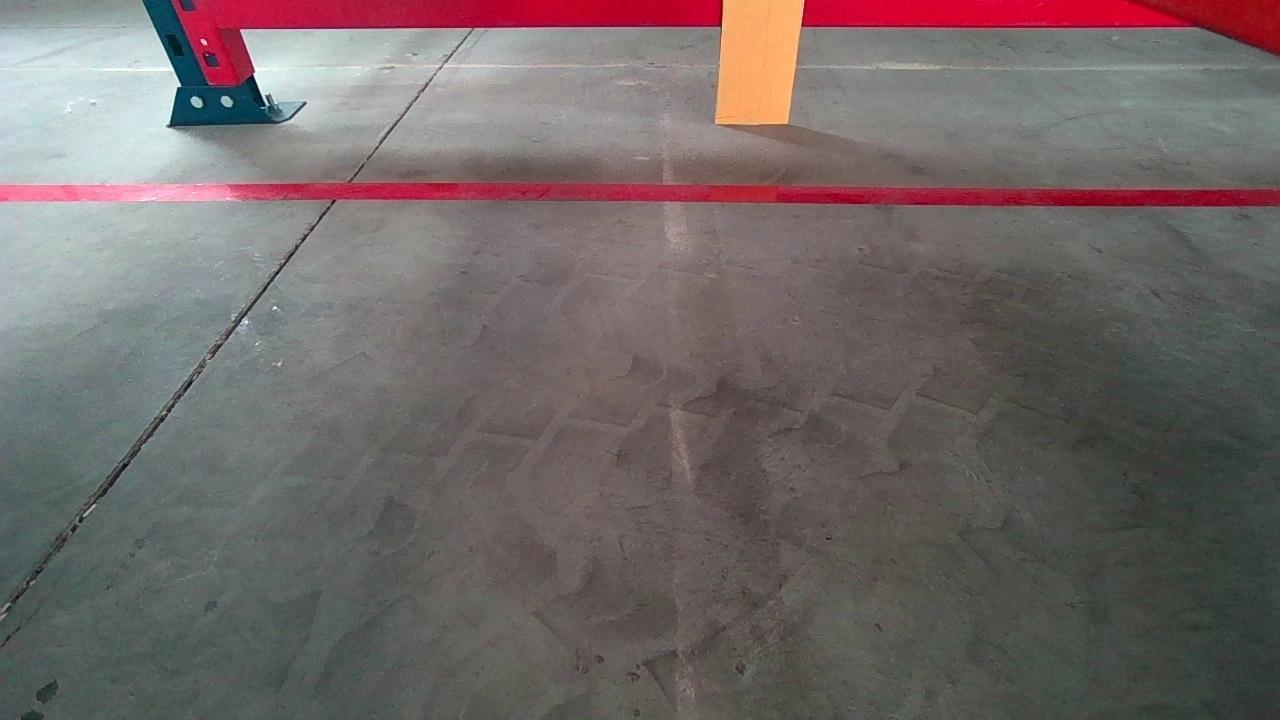h_rack: (199, 0, 1194, 28)
orange_strip: (714, 0, 802, 125)
